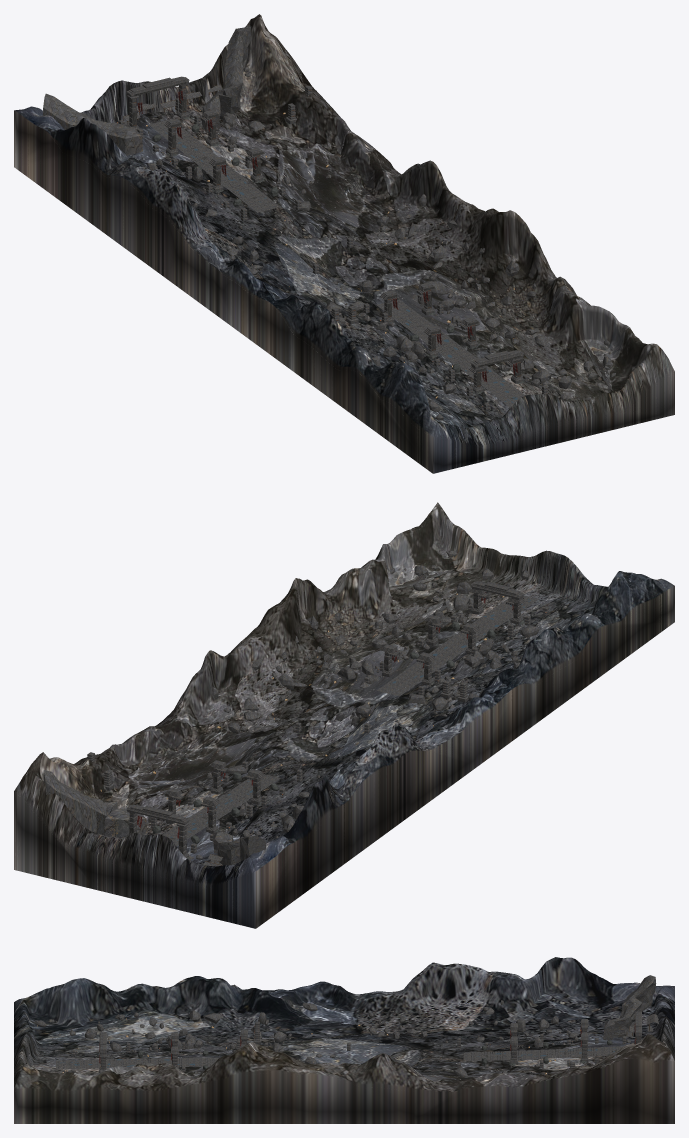
Rendered from world006_LOD1.fbx.
3 renders of one model, top to bottom at view 1: azimuth 30°, elevation 25°; view 2: azimuth 150°, elevation 25°; view 3: azimuth 270°, elevation 25°, orthographic. The views are drawn at different scales.
Parts seen in each view (by area): view 1: LODMesh_0583, LODMesh_0580, LODMesh_0582, LODMesh_0743, LODMesh_0581, LODMesh_0750, LODMesh_0748, LODMesh_0749, LODMesh_0747, LODMesh_0737, LODMesh_0731, LODMesh_0021 (+24 smaller); view 2: LODMesh_0583, LODMesh_0580, LODMesh_0581, LODMesh_0582, LODMesh_0749, LODMesh_0743, LODMesh_0021, LODMesh_0748, LODMesh_0742, LODMesh_0747, LODMesh_0750, LODMesh_0755 (+22 smaller); view 3: LODMesh_0580, LODMesh_0583, LODMesh_0732, LODMesh_0731, LODMesh_0737, LODMesh_0726, LODMesh_0729, LODMesh_0730, LODMesh_0724, LODMesh_0582, LODMesh_0020, LODMesh_0728 (+19 smaller).
Part boxes in pixels (left/top/right/bottom): LODMesh_0583: left=14, top=106, right=437, bottom=473; LODMesh_0580: left=245, top=14, right=656, bottom=376; LODMesh_0582: left=433, top=344, right=674, bottom=473; LODMesh_0743: left=275, top=209, right=382, bottom=282; LODMesh_0581: left=80, top=19, right=250, bottom=123; LODMesh_0750: left=248, top=138, right=354, bottom=208; LODMesh_0748: left=383, top=239, right=494, bottom=314; LODMesh_0749: left=312, top=198, right=426, bottom=258; LODMesh_0747: left=455, top=294, right=564, bottom=367; LODMesh_0737: left=237, top=214, right=342, bottom=283; LODMesh_0731: left=205, top=223, right=303, bottom=287; LODMesh_0021: left=202, top=26, right=251, bottom=132; LODMesh_0583: left=249, top=571, right=674, bottom=928; LODMesh_0580: left=21, top=502, right=443, bottom=798; LODMesh_0581: left=14, top=771, right=255, bottom=928; LODMesh_0582: left=438, top=503, right=607, bottom=605; LODMesh_0749: left=194, top=694, right=304, bottom=766; LODMesh_0743: left=232, top=713, right=344, bottom=771; LODMesh_0021: left=43, top=770, right=147, bottom=837; LODMesh_0748: left=263, top=648, right=374, bottom=713; LODMesh_0742: left=302, top=666, right=407, bottom=737; LODMesh_0747: left=332, top=603, right=428, bottom=665; LODMesh_0750: left=123, top=756, right=230, bottom=807; LODMesh_0755: left=184, top=676, right=262, bottom=753; LODMesh_0580: left=14, top=1034, right=674, bottom=1123; LODMesh_0583: left=22, top=957, right=673, bottom=1027; LODMesh_0732: left=451, top=1015, right=567, bottom=1043; LODMesh_0731: left=344, top=1018, right=456, bottom=1043; LODMesh_0737: left=343, top=1041, right=455, bottom=1064; LODMesh_0726: left=451, top=992, right=568, bottom=1023; LODMesh_0729: left=120, top=1025, right=236, bottom=1049; LODMesh_0730: left=232, top=1024, right=345, bottom=1045; LODMesh_0724: left=232, top=1002, right=343, bottom=1030; LODMesh_0582: left=14, top=998, right=40, bottom=1088; LODMesh_0020: left=603, top=975, right=656, bottom=1040; LODMesh_0728: left=34, top=1028, right=127, bottom=1051.
Size of the model in its own units: 20000 by 8538 by 60000.
